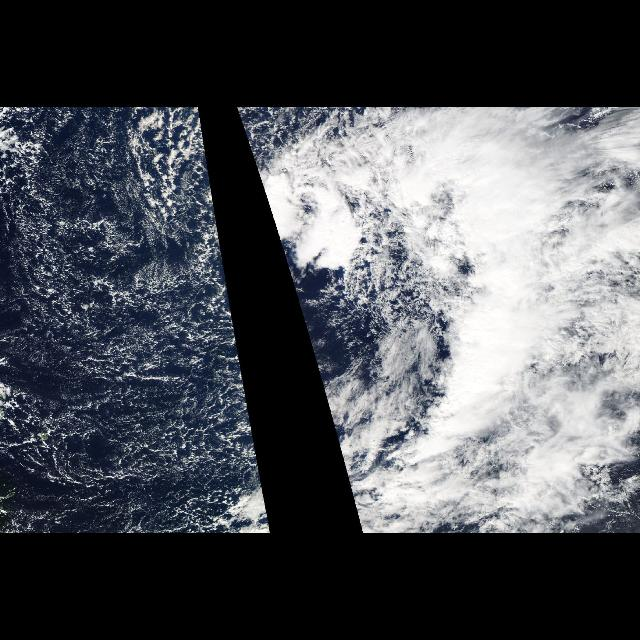Gravel: (0, 109, 270, 528), (236, 109, 272, 219)
